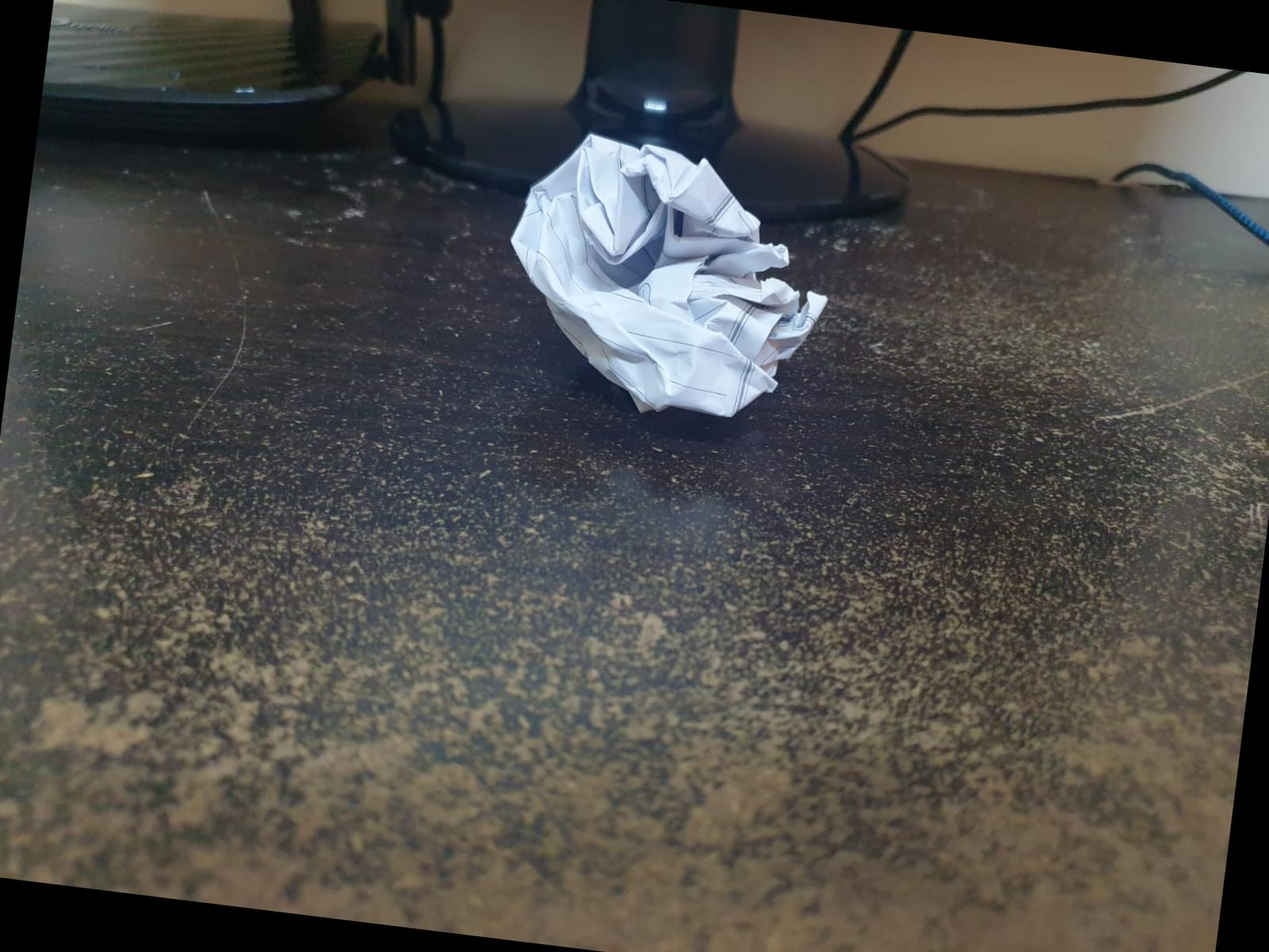Kertas: (512, 133, 825, 415)
